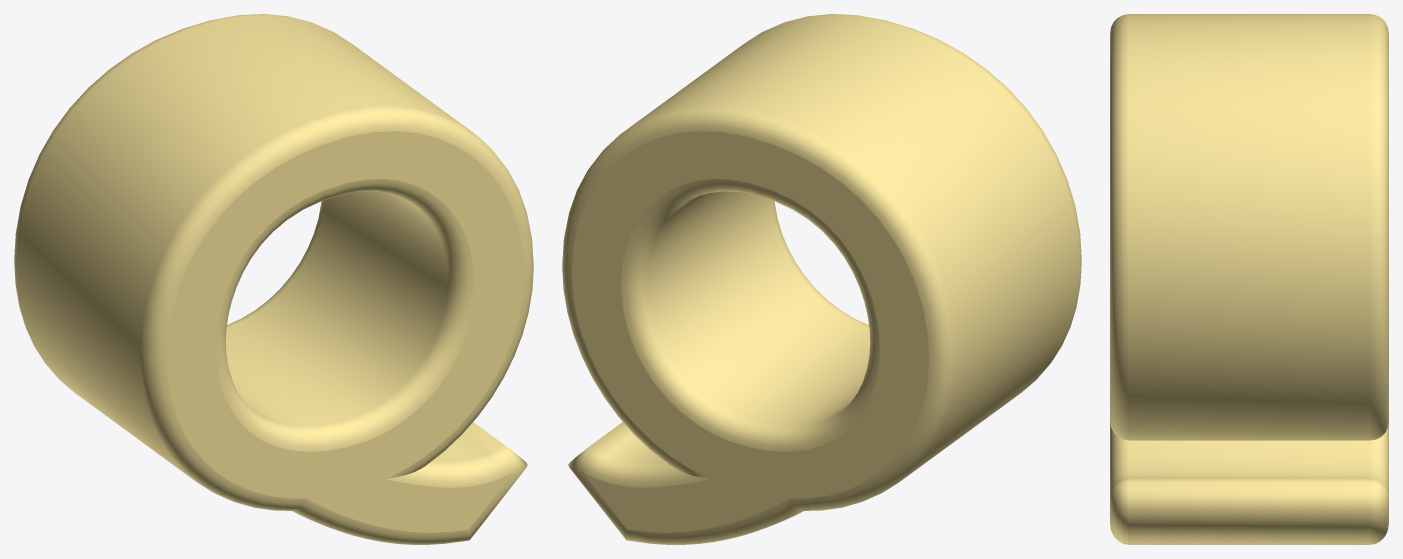
File: letter_Q.glb
3 renders of one model, left to right at view 1: azimuth 30°, elevation 25°; view 2: azimuth 150°, elevation 25°; view 3: azimuth 270°, elevation 25°, orthographic. The views are drawn at different scales.
Visible parts, largest first — view 1: Text; view 2: Text; view 3: Text.
Boxes of the visible parts, x1,y1,x2,y2 form: Text: [14, 14, 533, 544]; Text: [562, 14, 1081, 544]; Text: [1110, 14, 1388, 544].
Size of the model in its own units: 0.8051 by 0.9016 by 0.51.
